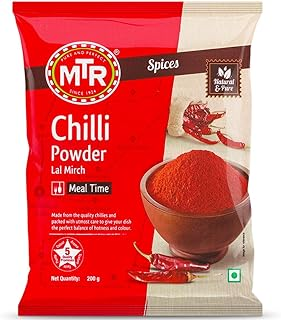Chilli Powder: (11, 2, 264, 319)
